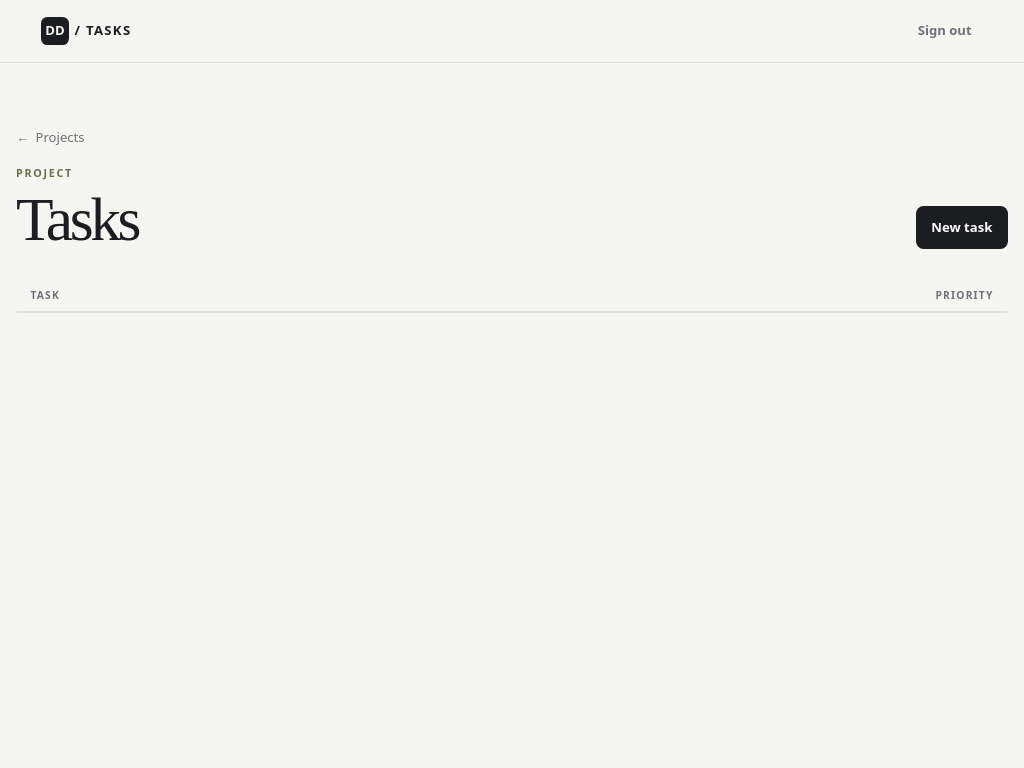
Test: product route shell › posts medium when a task is created without choosing priority
Step 1. Click the button "New task" → {"x": 962, "y": 228}, box [916,206,1008,249]
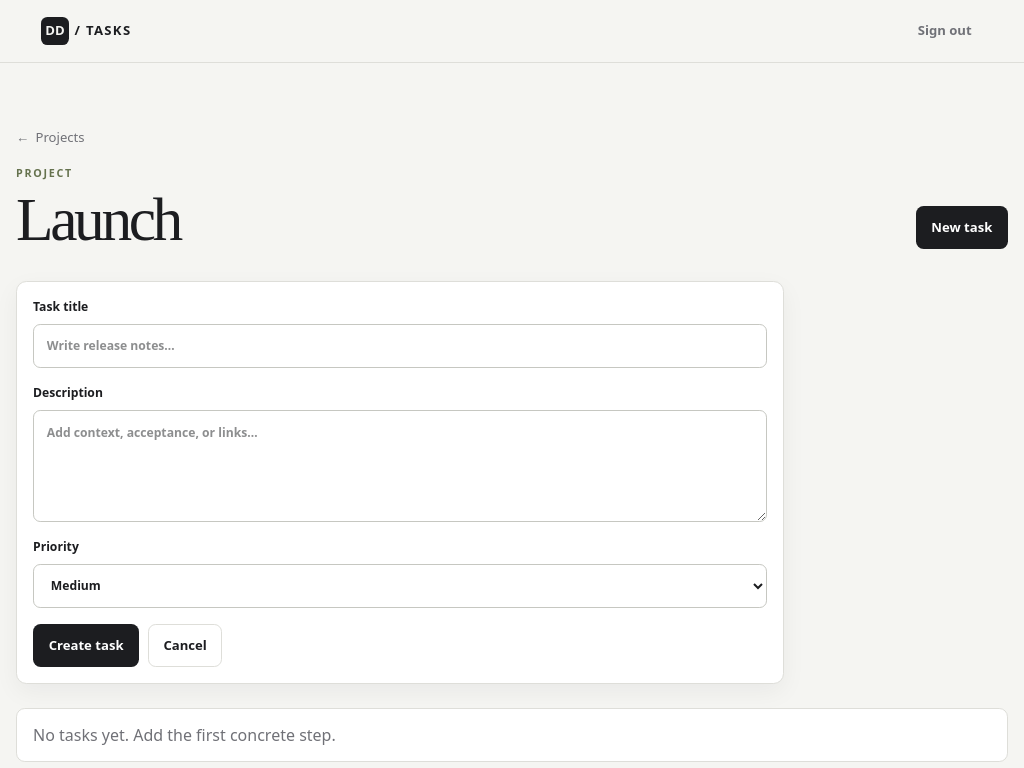
Expected: the dropdown labelled "Priority" shows "Medium", [33,564,767,608]
Step 2. Type "Default notes" into the field with test id "task-title" → {"x": 400, "y": 346}, box [33,324,767,368]
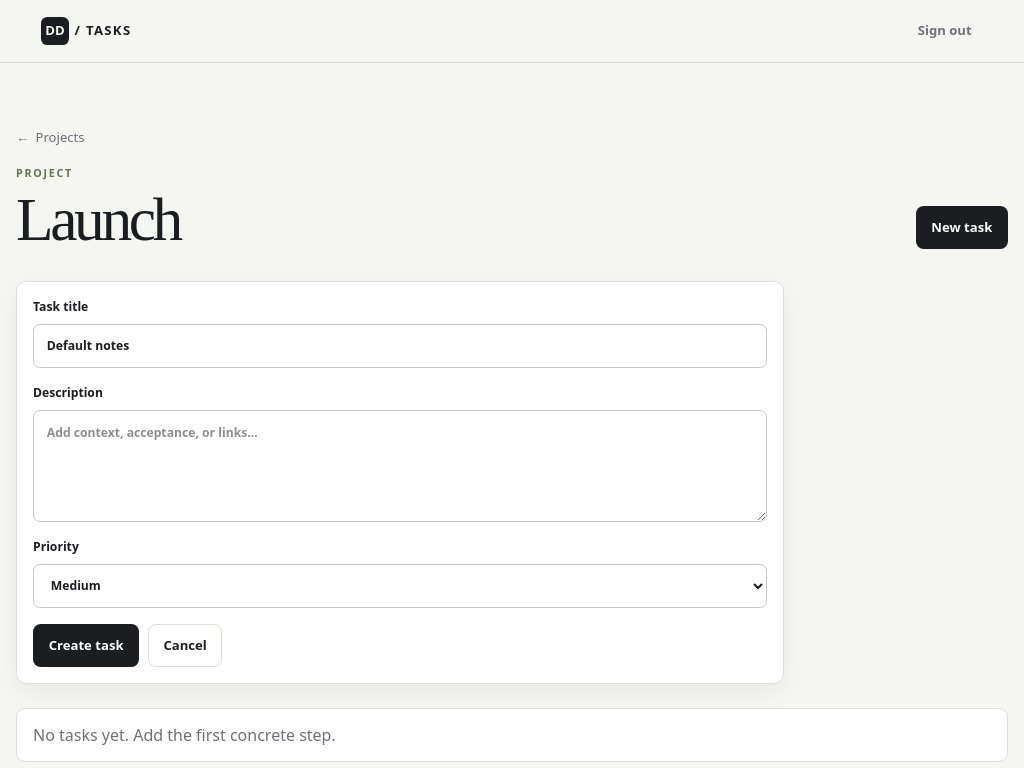
Step 3. Click the button with test id "task-submit" → {"x": 86, "y": 646}, box [33,624,139,667]
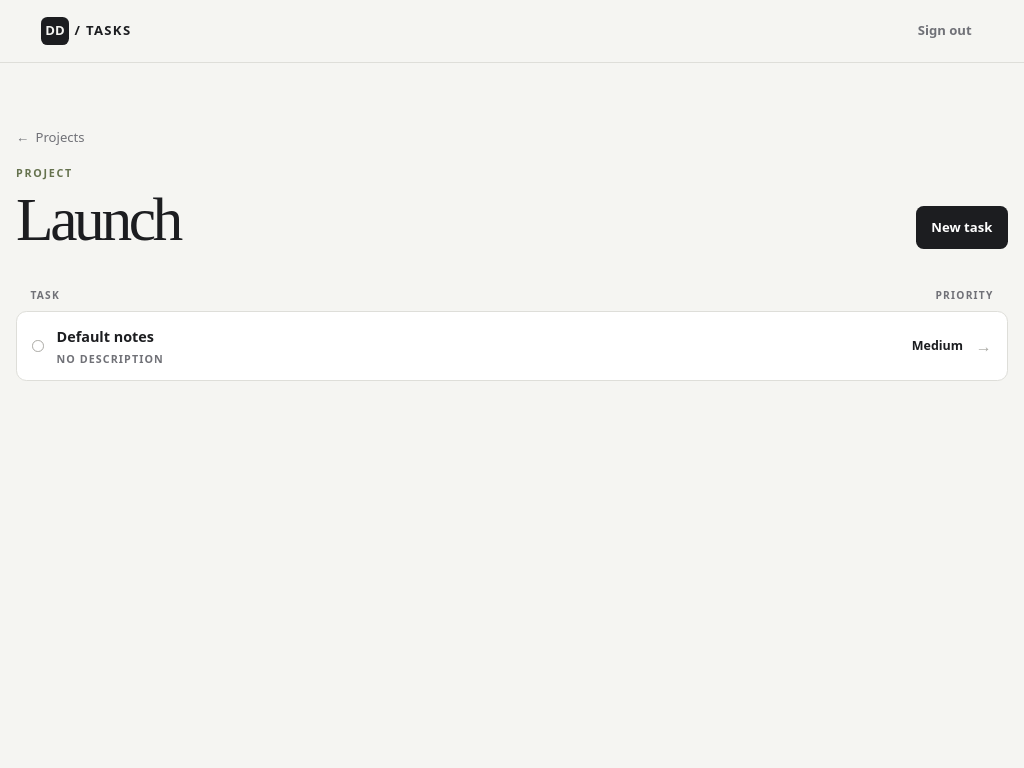
Expected: the text with class "task-priority" reads "Medium", [912,337,963,354]
